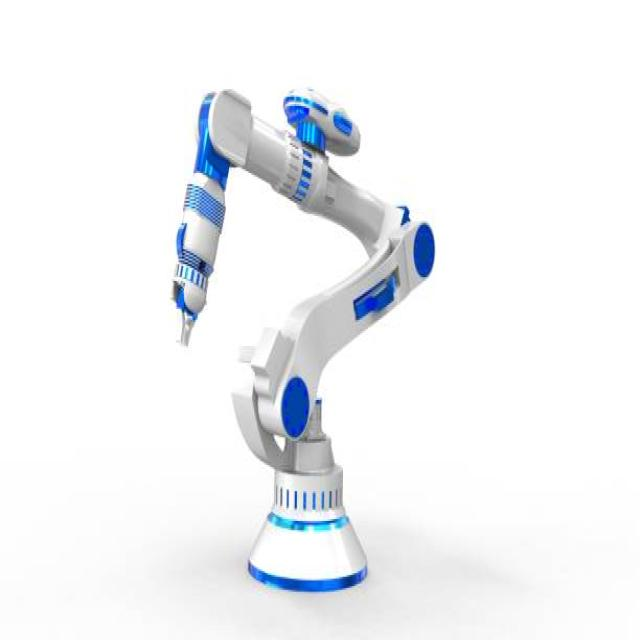Robotic-arm: (166, 63, 439, 597)
